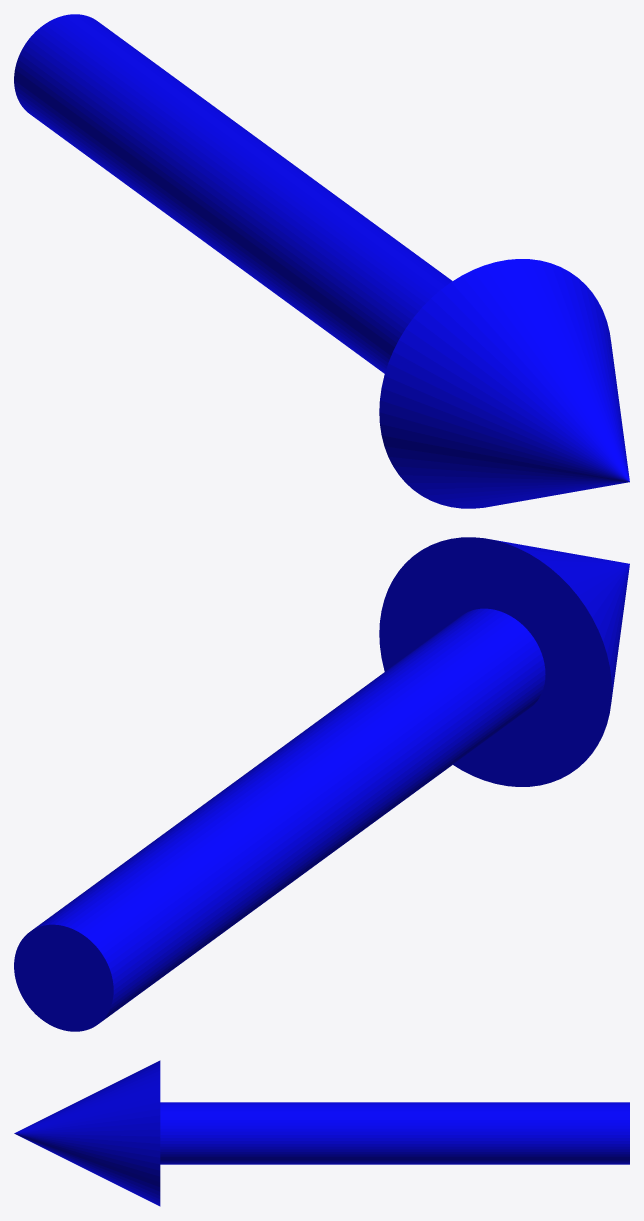
Rendered from arrow.obj.
3 views of the same model, one above another, from view 1: azimuth 30°, elevation 25°; view 2: azimuth 150°, elevation 25°; view 3: azimuth 270°, elevation 25° (orthographic). The views are drawn at different scales.
Parts seen in each view (by area): view 1: obj_0; view 2: obj_0; view 3: obj_0.
Part boxes in pixels (left/top/right/bottom): obj_0: left=14, top=14, right=629, bottom=508; obj_0: left=14, top=537, right=629, bottom=1031; obj_0: left=14, top=1060, right=629, bottom=1206.
Bounding box in the file's own units: 14 × 14 × 59.
